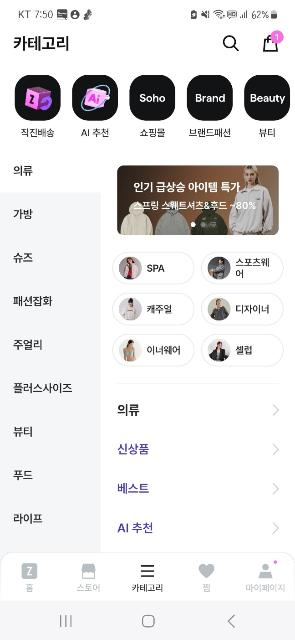Bottom_Navigation: (1, 552, 295, 600)
Icon: (261, 30, 284, 51), (21, 562, 37, 580), (224, 36, 240, 52), (82, 563, 96, 579), (258, 564, 274, 578), (200, 564, 215, 578), (142, 565, 154, 577), (272, 404, 280, 416), (273, 484, 279, 494), (273, 523, 279, 533), (274, 444, 278, 454)
Image: (117, 166, 279, 234), (130, 75, 176, 122), (15, 74, 61, 120), (72, 74, 118, 120), (187, 74, 233, 120), (244, 75, 290, 121), (119, 256, 143, 280), (207, 338, 231, 362), (207, 256, 230, 280), (207, 298, 231, 320), (119, 339, 143, 361), (120, 298, 142, 320)
List: (1, 153, 102, 552), (112, 384, 284, 550)
PageIndicator: (192, 221, 207, 227)
Text: (134, 180, 242, 192), (134, 200, 256, 210), (14, 36, 70, 52), (236, 257, 270, 277), (14, 383, 72, 393), (251, 92, 285, 104), (118, 522, 152, 534), (14, 297, 52, 307), (236, 304, 270, 314), (190, 128, 230, 136), (246, 584, 286, 592), (80, 128, 110, 138), (118, 444, 148, 454), (117, 483, 149, 492), (14, 340, 42, 350), (14, 513, 42, 523), (20, 128, 54, 136), (138, 93, 165, 103), (118, 404, 140, 416), (140, 128, 166, 138), (148, 346, 180, 354), (131, 584, 163, 592), (196, 94, 226, 102), (147, 304, 171, 314), (13, 253, 33, 263), (14, 166, 32, 177), (14, 209, 32, 219), (14, 426, 32, 436), (14, 470, 32, 480), (77, 584, 99, 590), (260, 128, 276, 136), (148, 264, 164, 272), (236, 346, 252, 354), (204, 584, 211, 592), (27, 584, 33, 592)
TextImageButton: (14, 73, 62, 137), (72, 74, 118, 138), (244, 74, 290, 138), (130, 75, 176, 137), (188, 76, 232, 136), (113, 252, 195, 284), (203, 252, 285, 284), (113, 334, 195, 366), (202, 334, 284, 366), (113, 294, 195, 324), (202, 294, 284, 324), (246, 564, 286, 592), (132, 564, 162, 592), (76, 564, 100, 592), (200, 564, 215, 592), (22, 564, 36, 592)
Toolbar: (0, 28, 295, 64)
UpperTaskBar: (0, 0, 295, 28)
